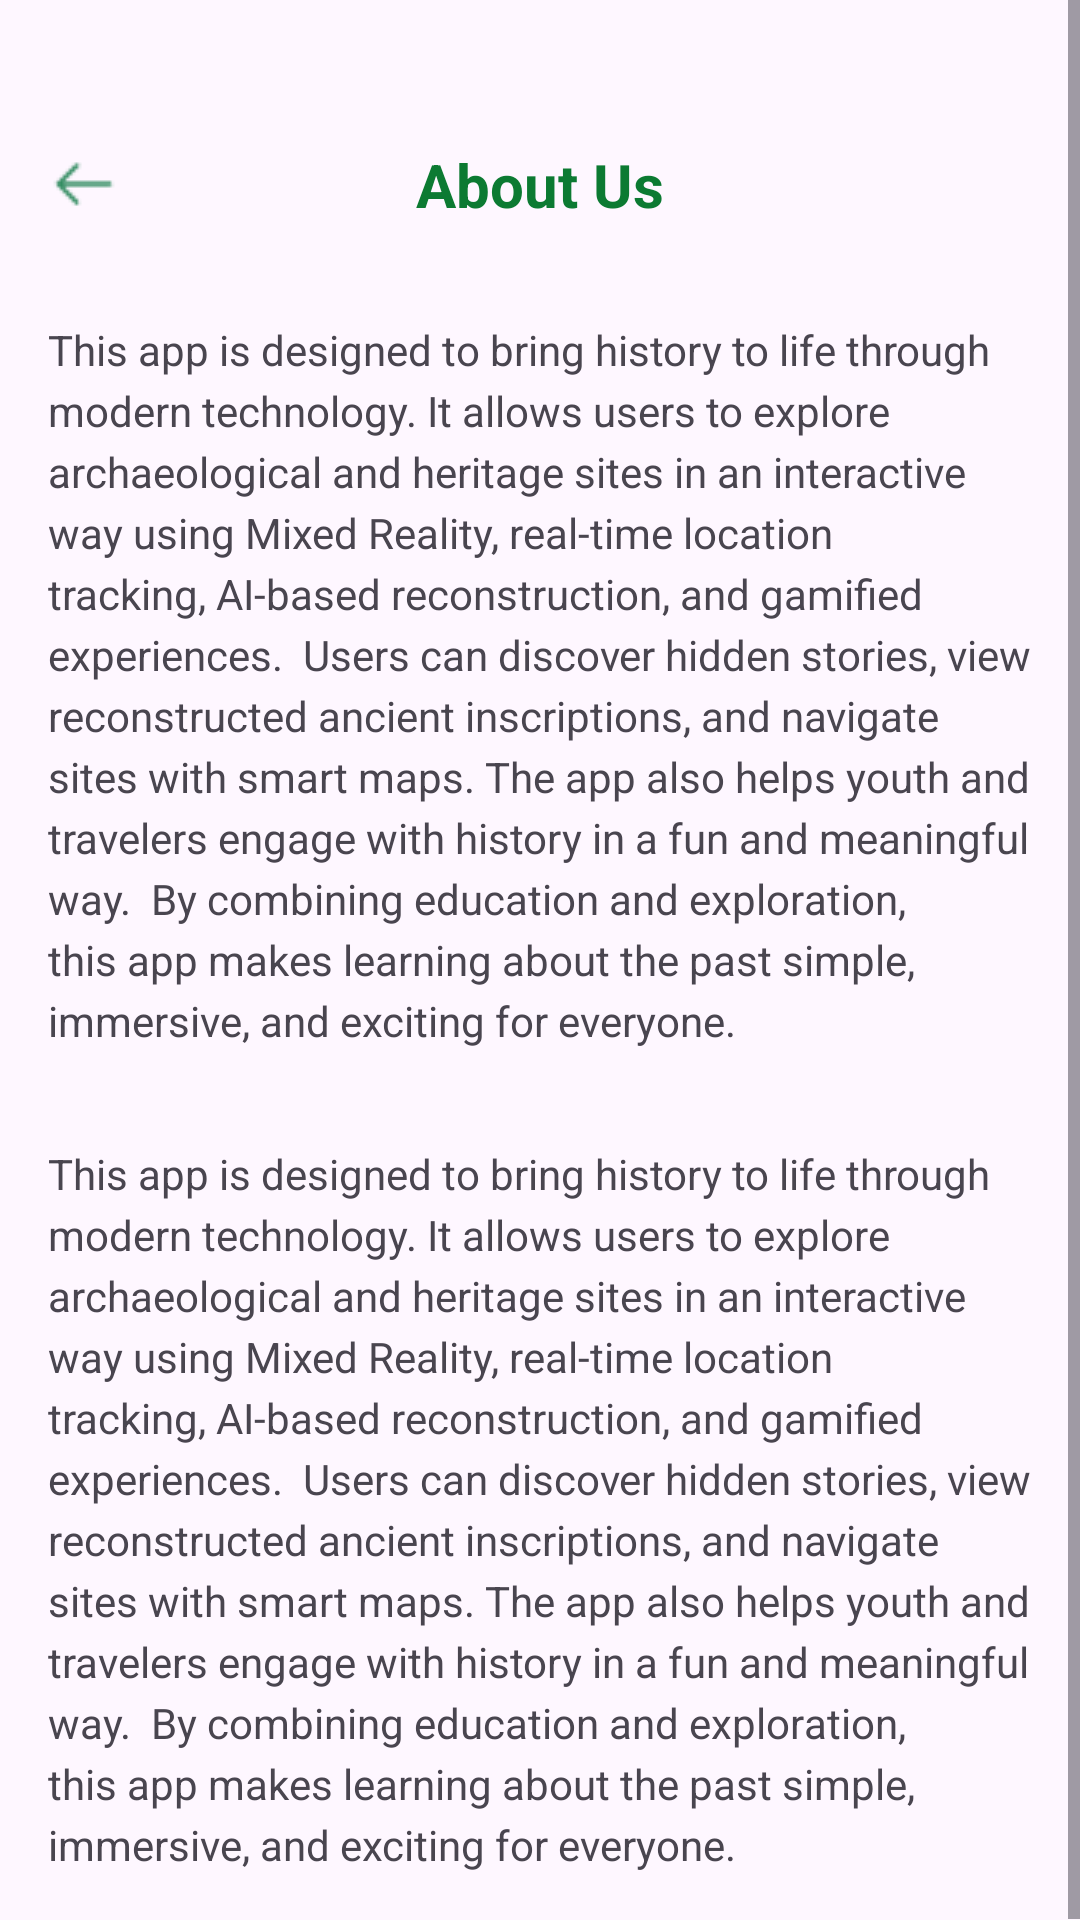

Where icons sit on this 1080w x 1920h app screen, as (x1, y1, x2, y2):
Back: (55, 162, 113, 206)
